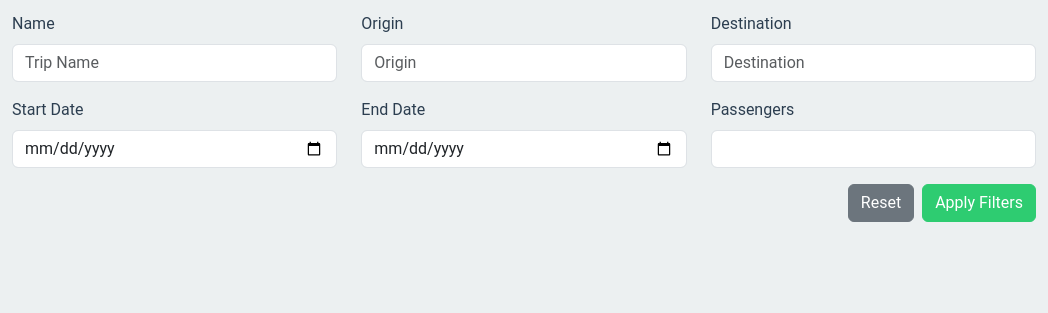
it: TripFilterForm › validates date range
In the date field named "start date": point(175, 149) x1=12 y1=130 x2=337 y2=168, type "2024-12-10"
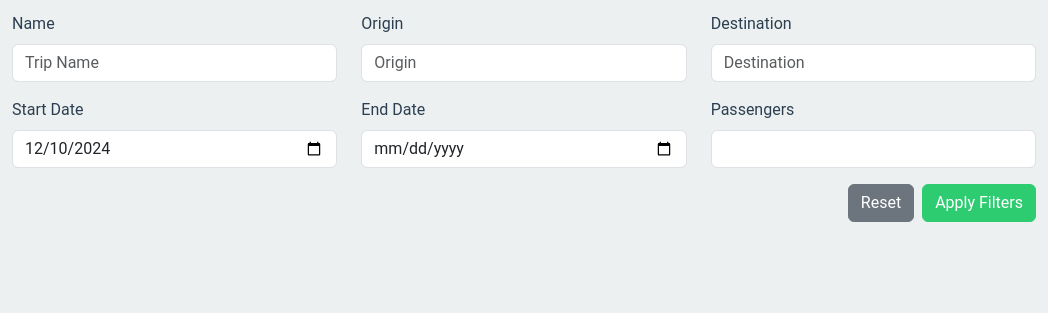
In the date field named "end date": point(524, 149) x1=361 y1=130 x2=687 y2=168, type "2024-12-01"
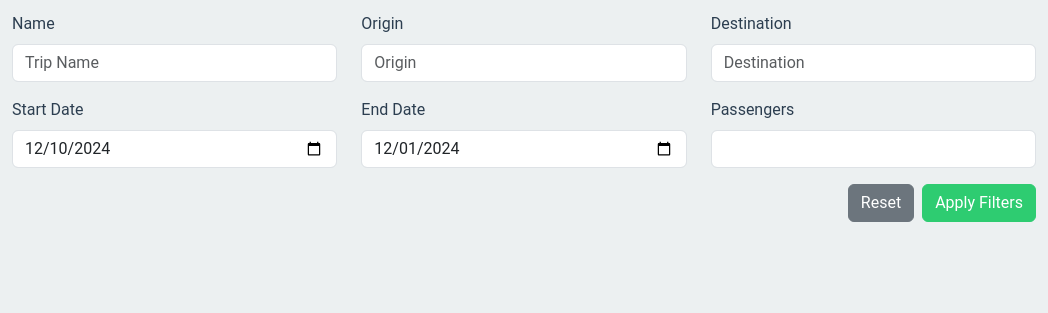
Click the button "Apply Filters": point(979, 203) x1=922 y1=184 x2=1036 y2=222
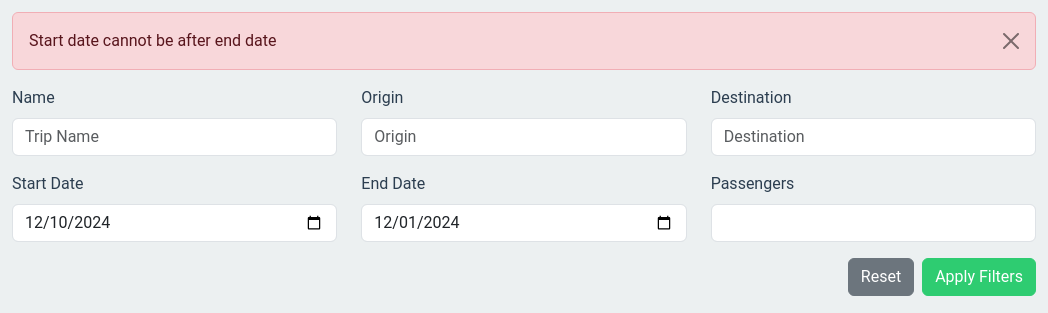
Result: the message reads "Start date cannot be after end date" at x1=29 y1=31 x2=276 y2=50
